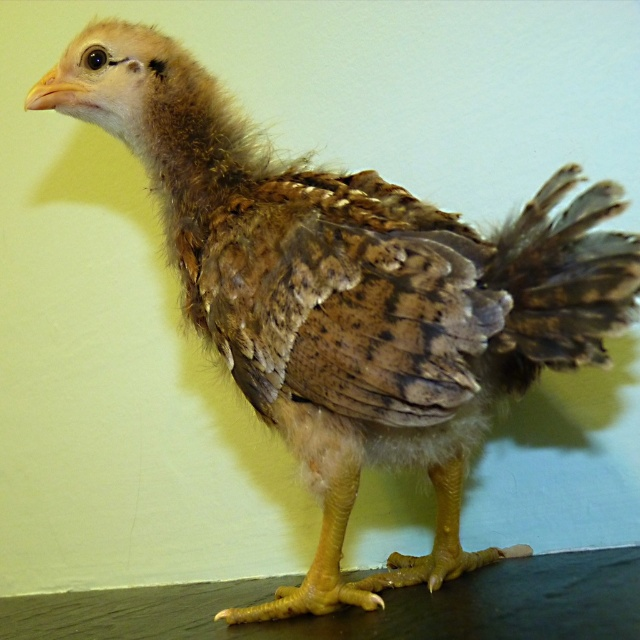Chicken: (23, 1, 640, 634)
